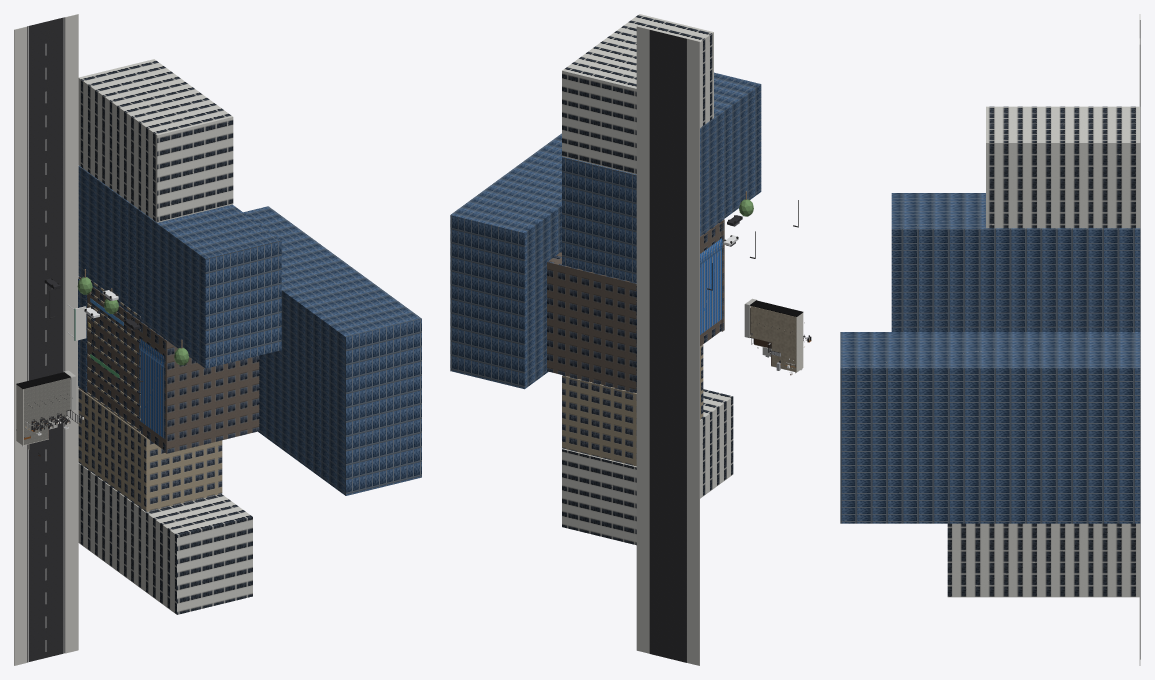
The model's file is akiba_school_room.fbx.
3 renders of one model, left to right at view 1: azimuth 30°, elevation 25°; view 2: azimuth 150°, elevation 25°; view 3: azimuth 270°, elevation 25°, orthographic. The views are drawn at different scales.
Parts seen in each view (by area): view 1: Bldg_Behind_Glass, Bldg_North_Glass, Road, Bldg_North2_White, Bldg_South2_White, Bldg_South_Tan, Sidewalk_Far, Sidewalk_Near, PS_Parapet, PS_Body, PS_Crown_Front, Ceiling_Hall (+2 smaller); view 2: Road, Bldg_Behind_Glass, Bldg_North_Glass, Bldg_North2_White, PS_Body, Bldg_South2_White, Sidewalk_Far, Sidewalk_Near, Bldg_South_Tan, PS_Crown_Front, Floor_Hall, Floor_Annex; view 3: Bldg_Behind_Glass, Bldg_North_Glass, Bldg_North2_White, Bldg_South2_White, Road.
Part boxes in pixels (x1,y1,x2,y2): Bldg_Behind_Glass: (243, 206, 421, 495); Bldg_North_Glass: (78, 166, 281, 368); Road: (27, 17, 64, 662); Bldg_North2_White: (78, 59, 233, 222); Bldg_South2_White: (78, 463, 252, 614); Bldg_South_Tan: (78, 388, 222, 511); Sidewalk_Far: (65, 14, 78, 653); Sidewalk_Near: (14, 26, 27, 665); PS_Parapet: (164, 339, 259, 453); PS_Body: (78, 276, 164, 450); PS_Crown_Front: (139, 350, 164, 438); Ceiling_Hall: (23, 378, 70, 420); Road: (649, 30, 686, 662); Bldg_Behind_Glass: (450, 133, 562, 389); Bldg_North_Glass: (562, 72, 761, 282); Bldg_North2_White: (562, 14, 713, 174); PS_Body: (547, 221, 721, 392); Bldg_South2_White: (562, 389, 733, 545); Sidewalk_Far: (636, 26, 649, 653); Sidewalk_Near: (687, 38, 699, 665); Bldg_South_Tan: (562, 345, 703, 466); PS_Crown_Front: (700, 249, 721, 334); Floor_Hall: (750, 306, 796, 348); Floor_Annex: (771, 343, 796, 371); Bldg_Behind_Glass: (840, 332, 1140, 523); Bldg_North_Glass: (891, 193, 1140, 331); Bldg_North2_White: (986, 106, 1140, 228); Bldg_South2_White: (947, 523, 1140, 597); Road: (1140, 20, 1140, 659).
Size of the model in its own units: 79.66 by 160 by 70.05.
Materials: 85 (18 with a texture image).
